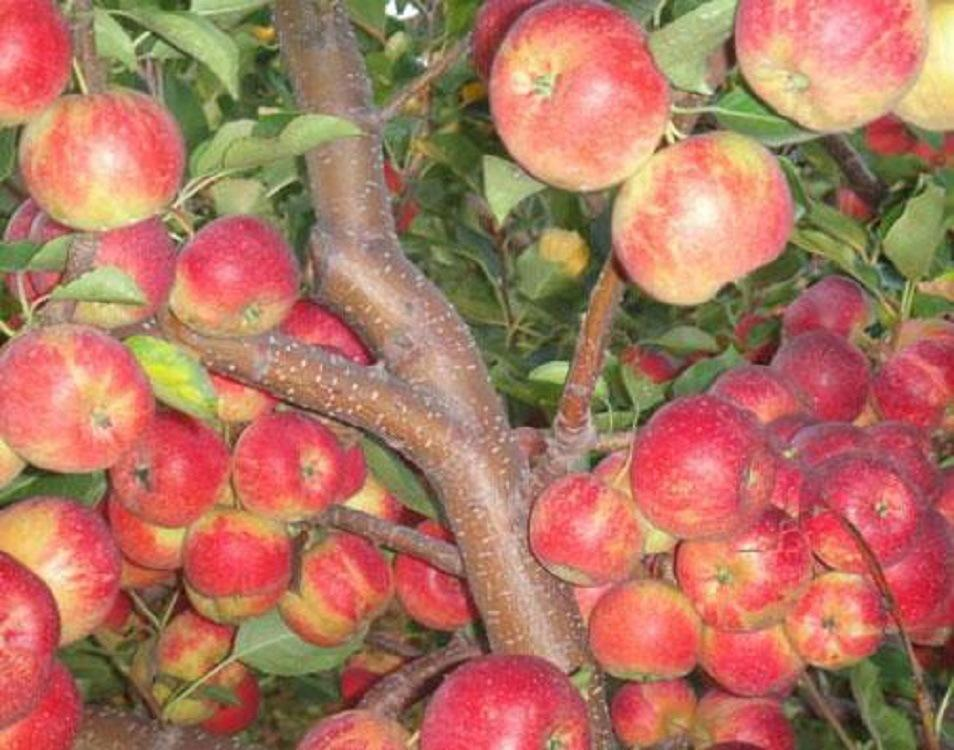apple: (484, 4, 672, 199), (610, 127, 796, 305), (732, 1, 928, 131), (1, 322, 153, 481), (20, 93, 186, 233), (630, 395, 776, 538), (2, 495, 120, 656), (415, 649, 592, 749), (165, 217, 300, 338), (677, 508, 805, 632), (109, 408, 230, 528), (798, 455, 921, 571), (525, 474, 646, 585), (235, 409, 345, 523), (588, 577, 705, 679), (780, 569, 885, 670)
